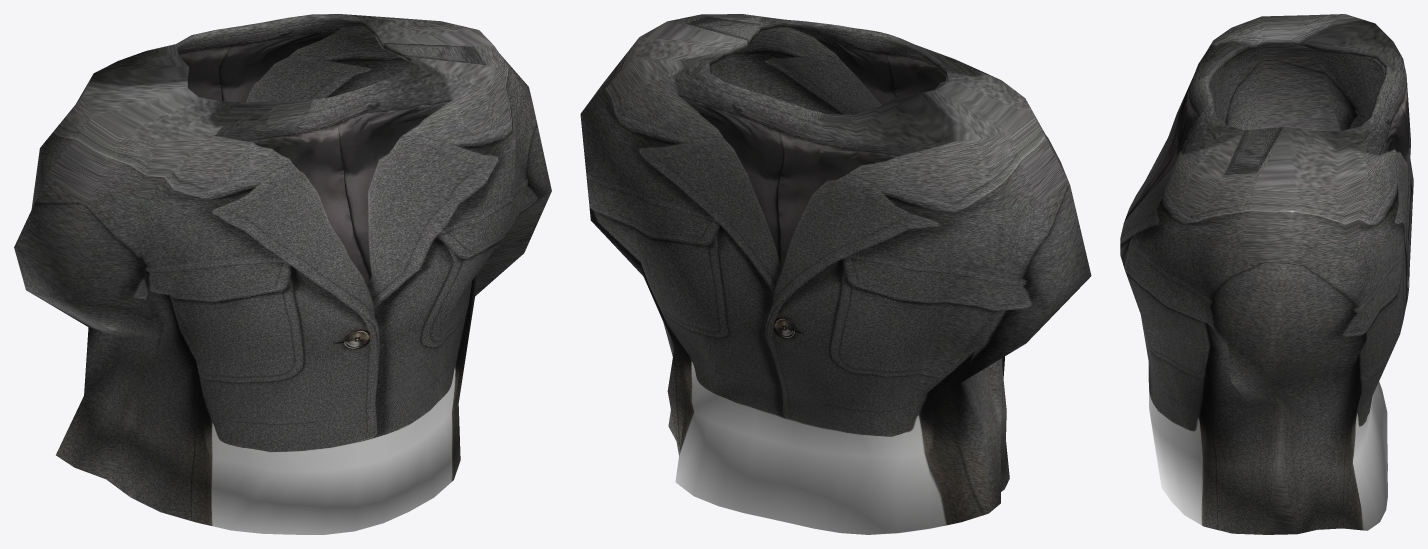
3 renders of one model, left to right at view 1: azimuth 30°, elevation 25°; view 2: azimuth 150°, elevation 25°; view 3: azimuth 270°, elevation 25°, orthographic. The views are drawn at different scales.
Parts seen in each view (by area): view 1: garment; view 2: garment; view 3: garment.
Boxes of the visible parts, left/top/right/bottom form: garment: left=14, top=14, right=551, bottom=534; garment: left=580, top=14, right=1091, bottom=534; garment: left=1120, top=14, right=1413, bottom=534.
Bounding box in the file's own units: 0.5796 × 0.4796 × 0.3207.
1 material, 1 textured.
